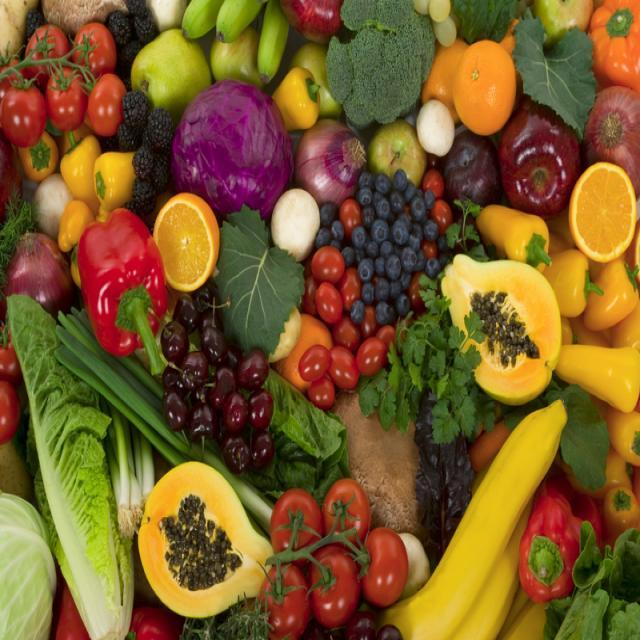Banana: (386, 390, 577, 639)
Orange: (446, 32, 526, 139)
Tomato: (308, 539, 364, 628), (354, 535, 408, 609), (267, 467, 311, 556), (260, 553, 305, 640), (2, 64, 48, 147), (45, 61, 84, 147), (86, 66, 130, 142), (73, 10, 120, 75), (23, 13, 69, 73), (326, 469, 363, 540), (306, 242, 352, 288), (298, 339, 338, 388), (310, 276, 348, 322), (294, 339, 332, 385), (328, 337, 359, 393), (354, 330, 390, 378)
